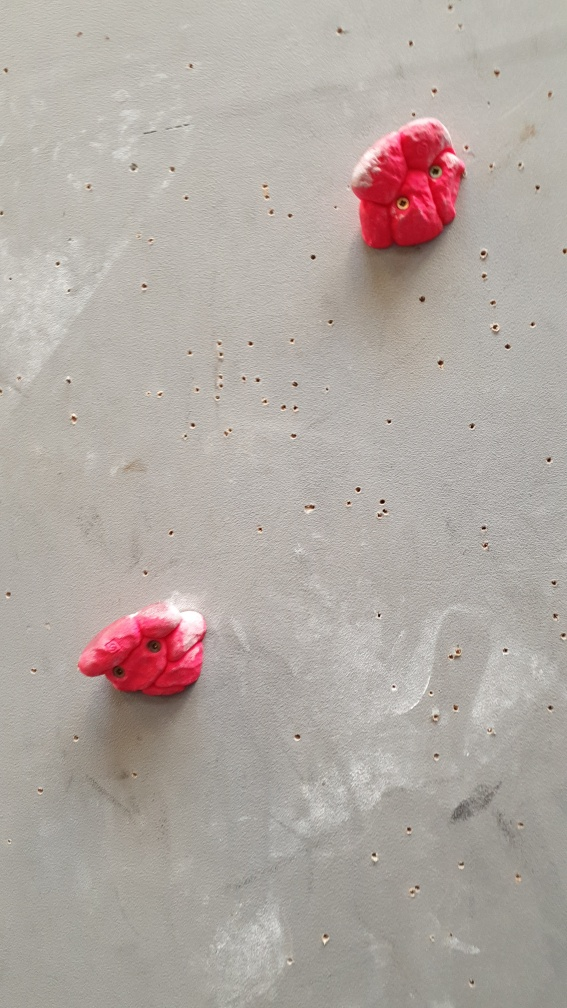Jug: (348, 112, 467, 254), (77, 602, 210, 701)
